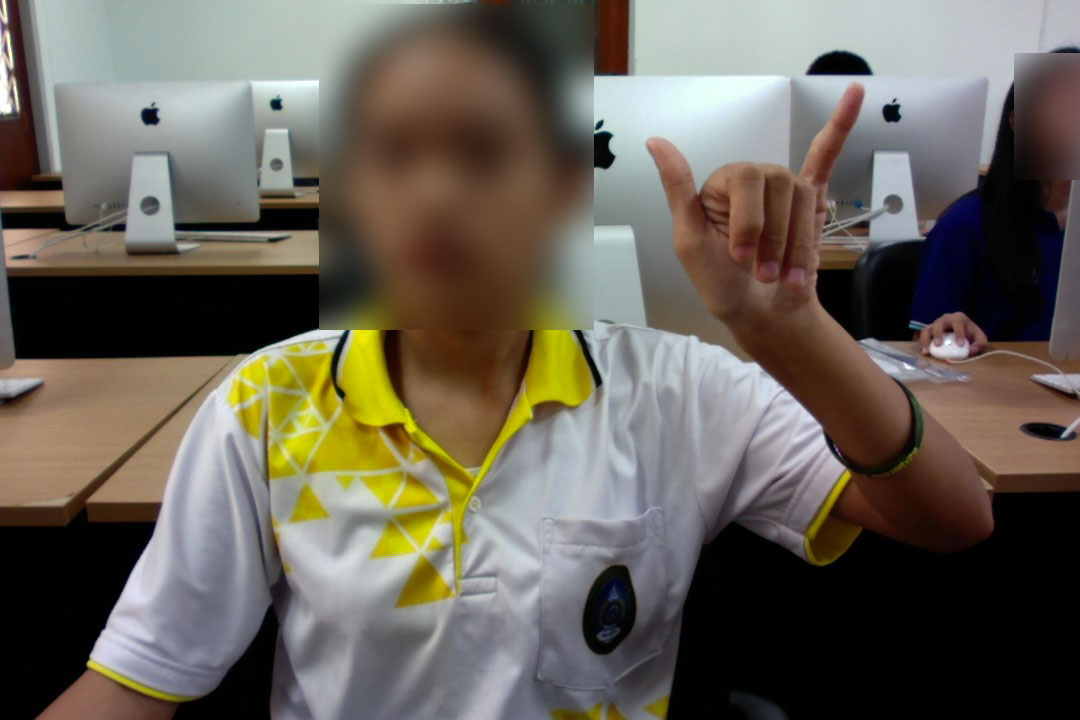yor: (638, 79, 878, 357)
